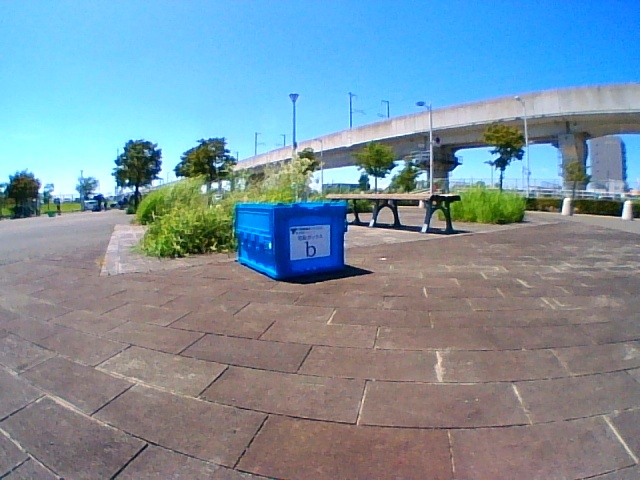blue_box: (242, 203, 342, 265)
tag_b: (293, 229, 324, 258)
